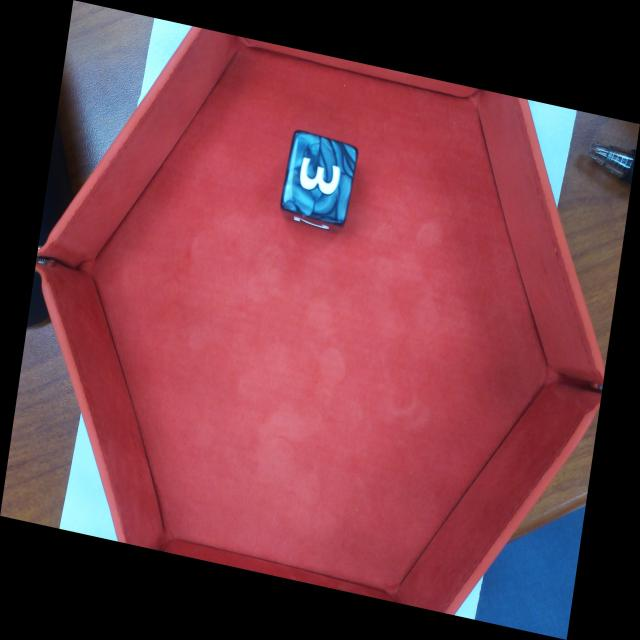dice: (277, 126, 361, 229)
